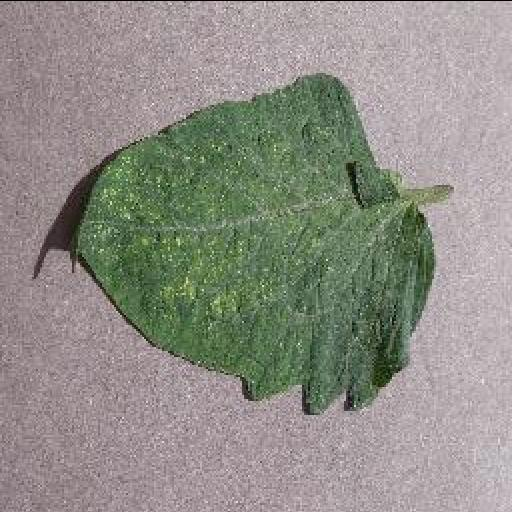disease_tomato: (74, 72, 436, 416)
